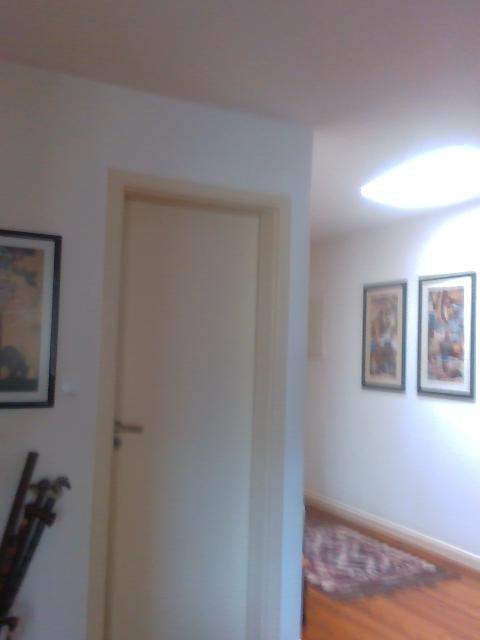closed_door: (80, 166, 290, 638)
